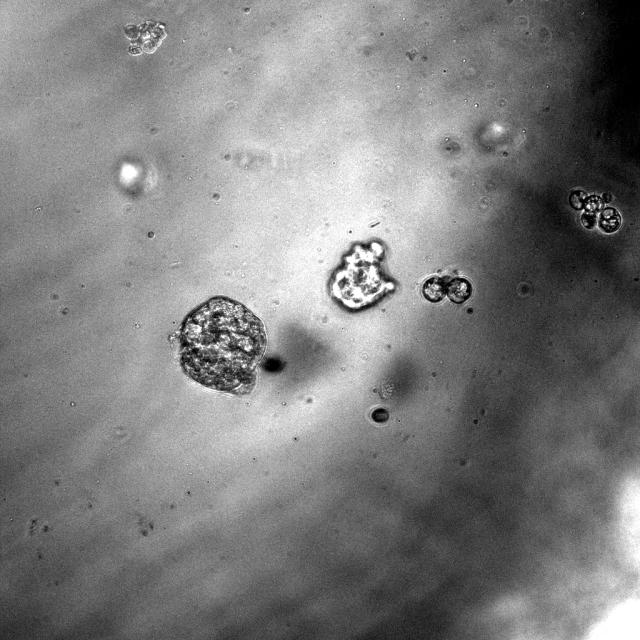organoid: (175, 296, 266, 393), (328, 240, 396, 311), (569, 188, 622, 234), (124, 19, 167, 56), (422, 274, 472, 304), (371, 406, 389, 423)
